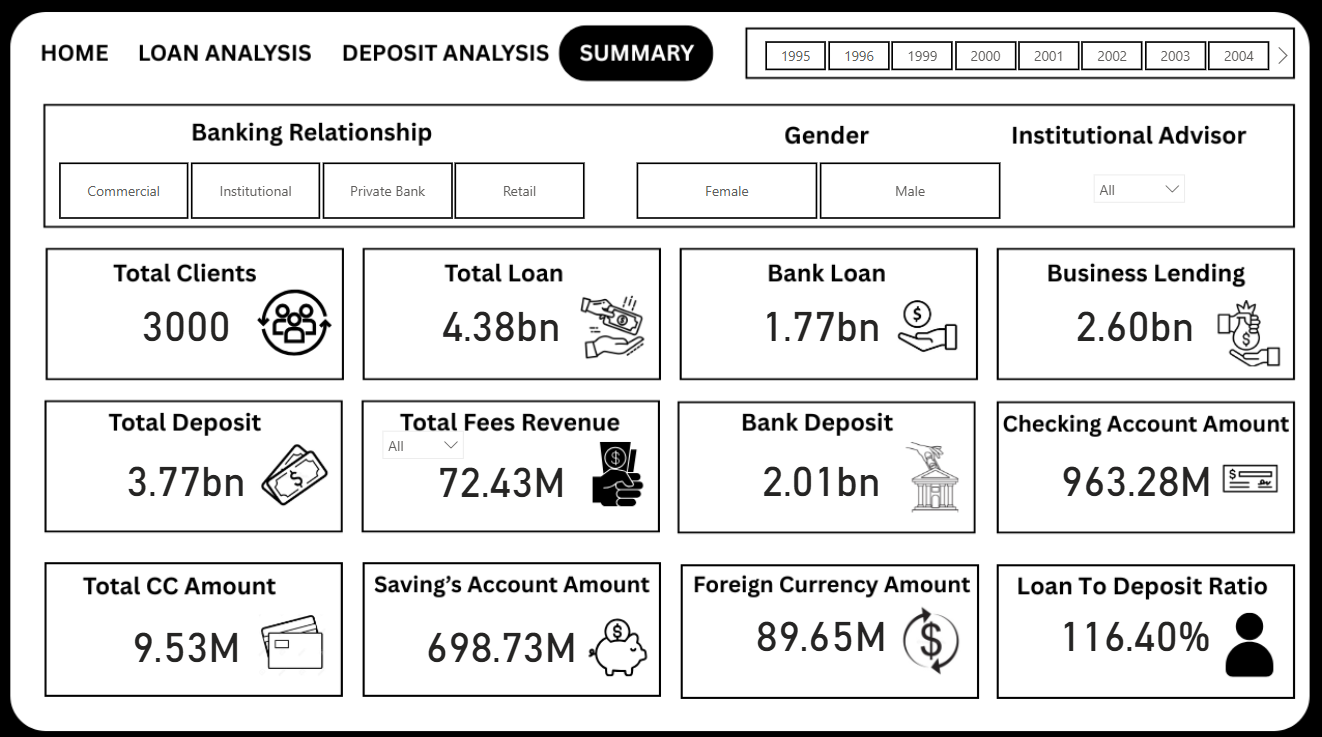

This screenshot's page, from the dashboard's own definition file:
{"tool":"powerbi","page":{"name":"Summary","canvas":[1280,720],"ordinal":3},"visuals":[{"type":"actionButton","box":[325.7,35,212.3,39.8],"z":0},{"type":"actionButton","box":[129.1,32.6,177.3,39.8],"z":1000},{"type":"actionButton","box":[25.3,32.6,94.1,39.8],"z":2000},{"type":"card","fields":{"Values":["CountNonNull(Banking_Clients.Name)"]},"box":[56.7,236.5,249.7,149.6],"z":3000},{"type":"card","fields":{"Values":["Banking_Clients.Total loan"]},"box":[360.7,236.5,249.7,149.6],"z":4000},{"type":"card","fields":{"Values":["Sum(Banking_Clients.Bank Loans)"]},"box":[669.6,236.5,249.7,149.6],"z":5000},{"type":"card","fields":{"Values":["Sum(Banking_Clients.Business Lending)"]},"box":[972.4,236.5,249.7,149.6],"z":6000},{"type":"card","fields":{"Values":["Banking_Clients.Total Deposits"]},"box":[56.7,386.1,249.7,149.6],"z":7000},{"type":"card","fields":{"Values":["Sum(Banking_Clients.Bank Deposits)"]},"box":[669.6,386.1,249.7,149.6],"z":8000},{"type":"card","fields":{"Values":["Sum(Banking_Clients.Checking Accounts)"]},"box":[973.6,386.1,249.7,149.6],"z":9000},{"type":"card","fields":{"Values":["Sum(Banking_Clients.Credit Card Balance)"]},"box":[56.7,546.5,249.7,149.6],"z":10000},{"type":"card","fields":{"Values":["Sum(Banking_Clients.Saving Accounts)"]},"box":[360.7,546.5,249.7,149.6],"z":11000},{"type":"card","fields":{"Values":["Sum(Banking_Clients.Foreign Currency Account)"]},"box":[669.6,535.7,249.7,149.6],"z":12000},{"type":"slicer","fields":{"Values":["Banking_Clients.BRId"]},"box":[32.6,149.6,557.4,68.8],"z":13000},{"type":"slicer","fields":{"Values":["Banking_Clients.GenderId"]},"box":[589.9,149.6,401.7,68.8],"z":14000},{"type":"slicer","fields":{"Values":["Banking_Clients.IAId"]},"box":[1047.2,158,108.6,120.6],"z":15000},{"type":"slicer","fields":{"Values":["Banking_Clients.year of joining"]},"box":[714.2,32.6,536.9,42.2],"z":16000},{"type":"card","fields":{"Values":["Banking_Clients.Estimated Fee Income"]},"box":[386.1,428.3,199.1,66.4],"z":17000},{"type":"slicer","fields":{"Values":["Banking_Clients.Fee Structure"]},"box":[360.7,405.4,98.9,68.8],"z":17001},{"type":"card","fields":{"Values":["Banking_Clients.Loan to Deposit Ratio (%)"]},"box":[972.4,535.7,249.7,149.6],"z":17002}]}

Visuals, with their boxes in screenshot pixels (x1, y1, x2, y2), scaled from the page's 1280x720 canvas onto the 1322x737 screenshot:
actionButton: <bbox>336, 36, 556, 77</bbox>
actionButton: <bbox>133, 33, 316, 74</bbox>
actionButton: <bbox>26, 33, 123, 74</bbox>
card - CountNonNull(Banking_Clients.Name): <bbox>59, 242, 316, 395</bbox>
card - Banking_Clients.Total loan: <bbox>373, 242, 630, 395</bbox>
card - Sum(Banking_Clients.Bank Loans): <bbox>692, 242, 949, 395</bbox>
card - Sum(Banking_Clients.Business Lending): <bbox>1004, 242, 1262, 395</bbox>
card - Banking_Clients.Total Deposits: <bbox>59, 395, 316, 548</bbox>
card - Sum(Banking_Clients.Bank Deposits): <bbox>692, 395, 949, 548</bbox>
card - Sum(Banking_Clients.Checking Accounts): <bbox>1006, 395, 1263, 548</bbox>
card - Sum(Banking_Clients.Credit Card Balance): <bbox>59, 559, 316, 713</bbox>
card - Sum(Banking_Clients.Saving Accounts): <bbox>373, 559, 630, 713</bbox>
card - Sum(Banking_Clients.Foreign Currency Account): <bbox>692, 548, 949, 701</bbox>
slicer - Banking_Clients.BRId: <bbox>34, 153, 609, 224</bbox>
slicer - Banking_Clients.GenderId: <bbox>609, 153, 1024, 224</bbox>
slicer - Banking_Clients.IAId: <bbox>1082, 162, 1194, 285</bbox>
slicer - Banking_Clients.year of joining: <bbox>738, 33, 1292, 77</bbox>
card - Banking_Clients.Estimated Fee Income: <bbox>399, 438, 604, 506</bbox>
slicer - Banking_Clients.Fee Structure: <bbox>373, 415, 475, 485</bbox>
card - Banking_Clients.Loan to Deposit Ratio (%): <bbox>1004, 548, 1262, 701</bbox>
